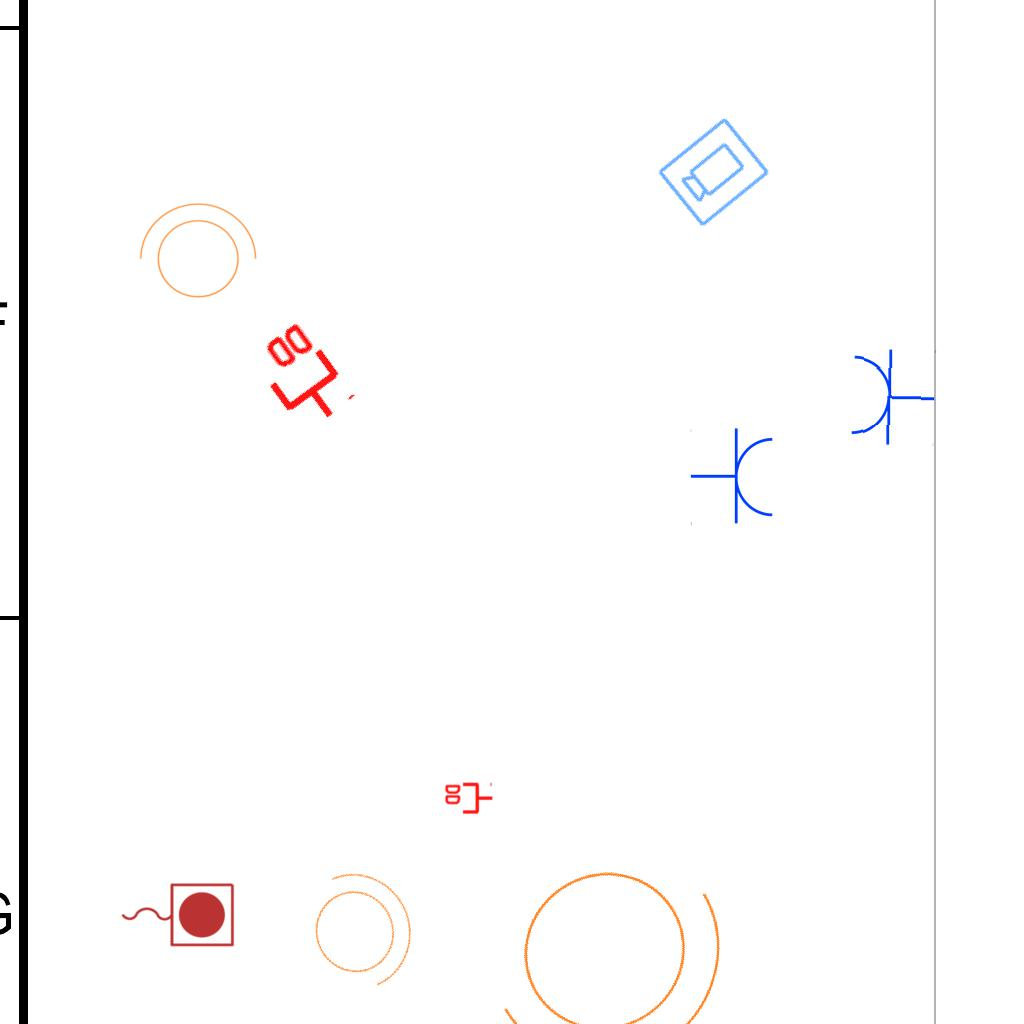Datenanschluss_zweifach: (242, 315, 359, 440), (443, 782, 494, 816)
KFO_Kamera_mit_Festobjektiv: (653, 112, 774, 231)
Scheinwerfer_fuer_Alarmbeleuchtung: (444, 793, 786, 1024), (280, 844, 436, 1010), (129, 198, 261, 310)
Schukosteckdose_einfach: (846, 345, 938, 448), (690, 427, 777, 527)
Zugtaster: (116, 878, 238, 950)
